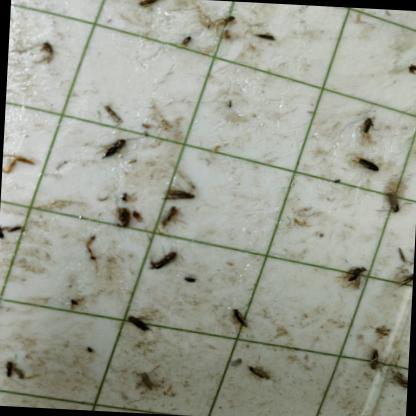prays_oleae: (381, 181, 409, 240), (224, 302, 254, 338), (136, 364, 162, 402), (124, 308, 154, 338), (98, 98, 126, 130), (340, 262, 368, 294), (387, 364, 408, 405), (366, 341, 387, 380), (246, 356, 270, 390), (156, 202, 180, 235), (158, 184, 197, 204), (246, 22, 276, 48), (356, 147, 380, 178), (99, 138, 129, 162), (146, 248, 174, 273), (2, 360, 27, 388), (356, 111, 376, 145), (393, 269, 413, 295), (394, 244, 411, 272), (6, 217, 26, 239), (372, 319, 392, 341), (127, 203, 146, 225), (405, 48, 416, 84), (175, 36, 196, 50), (0, 217, 8, 245)
